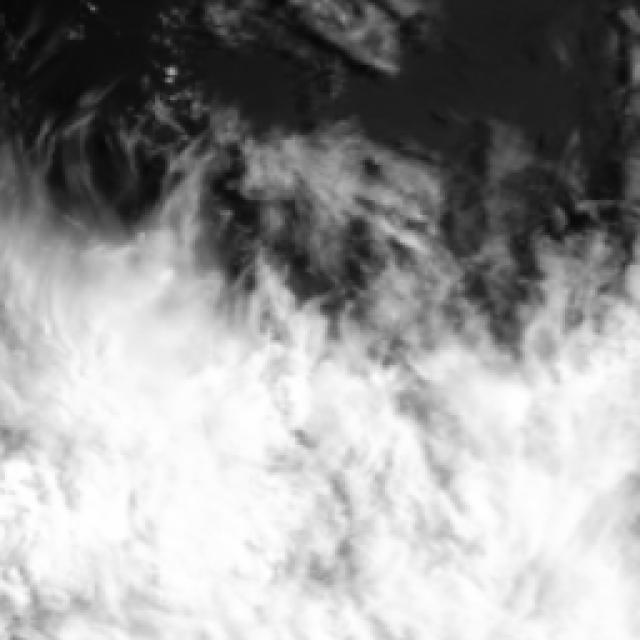CB: (128, 369, 267, 590)
